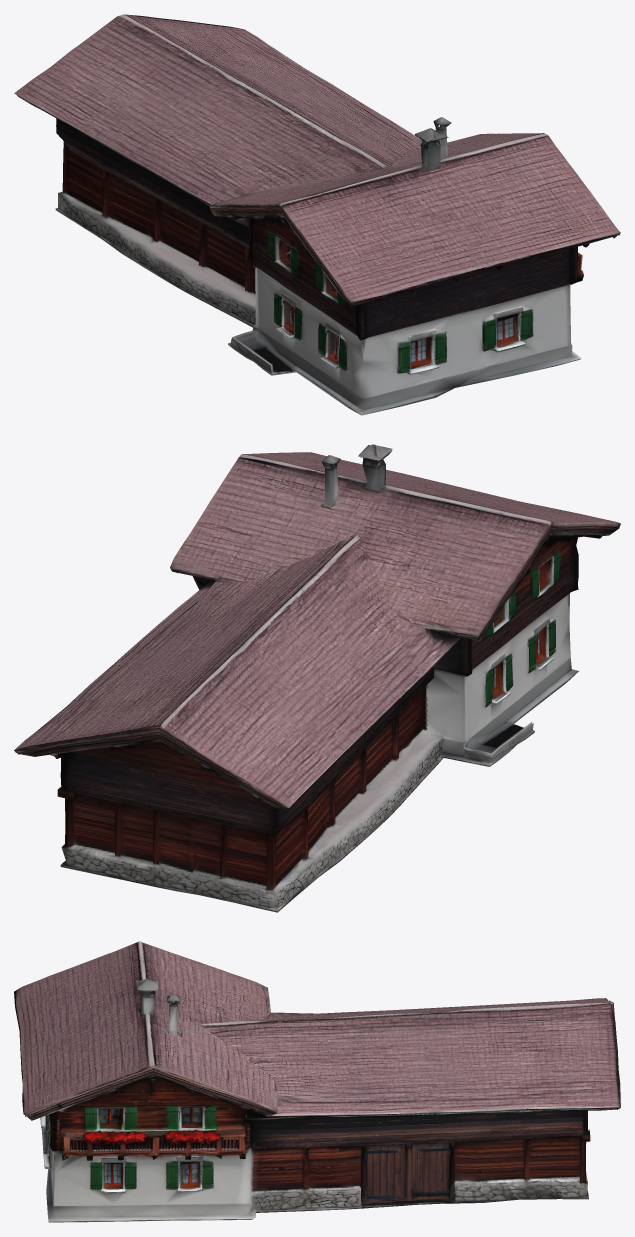
File: farmhouse_tripo.glb
The picture shows the model from 3 angles, top to bottom: view 1: azimuth 30°, elevation 25°; view 2: azimuth 150°, elevation 25°; view 3: azimuth 270°, elevation 25°; orthographic projection. The views are drawn at different scales.
Parts seen in each view (by area): view 1: tripo_node_821ba85b-36da-425c-89de-ca6c80999213; view 2: tripo_node_821ba85b-36da-425c-89de-ca6c80999213; view 3: tripo_node_821ba85b-36da-425c-89de-ca6c80999213.
Boxes of the visible parts, left/top/right/bottom form: tripo_node_821ba85b-36da-425c-89de-ca6c80999213: left=14, top=14, right=620, bottom=415; tripo_node_821ba85b-36da-425c-89de-ca6c80999213: left=14, top=444, right=620, bottom=912; tripo_node_821ba85b-36da-425c-89de-ca6c80999213: left=14, top=941, right=620, bottom=1222.
Bounding box in the file's own units: 0.5079 × 0.3583 × 0.979.
1 material, 1 textured.
